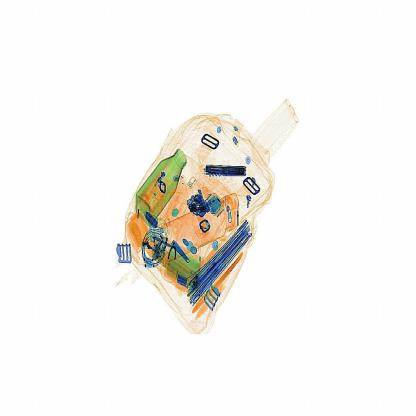scissors: (203, 164, 250, 180)
